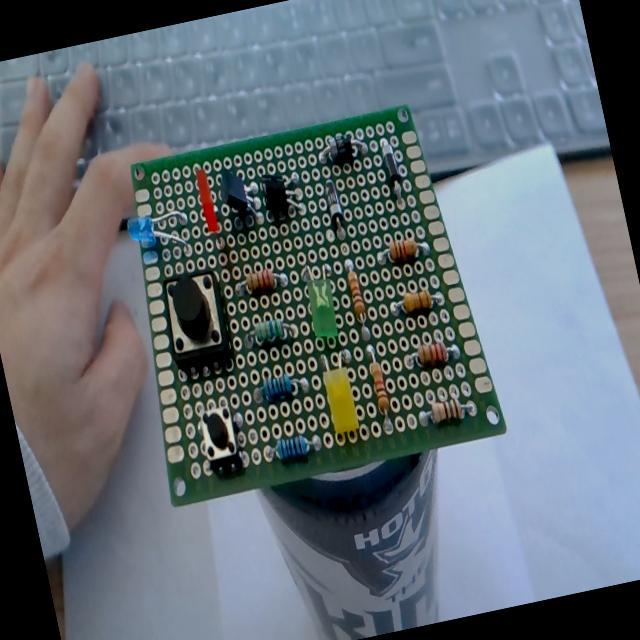diode: (316, 128, 368, 169), (379, 136, 406, 202), (323, 180, 346, 230)
led: (298, 259, 346, 346), (124, 204, 192, 260), (318, 353, 361, 436), (192, 166, 228, 262)
resistor: (366, 347, 394, 433), (264, 430, 322, 465), (252, 368, 307, 404), (241, 315, 296, 351), (419, 395, 476, 429), (233, 266, 288, 300), (376, 234, 429, 268), (389, 288, 442, 318), (409, 338, 458, 369), (345, 268, 365, 318)
switch: (158, 265, 235, 373), (193, 401, 244, 472)
transistor: (213, 164, 264, 230), (256, 166, 306, 220)
